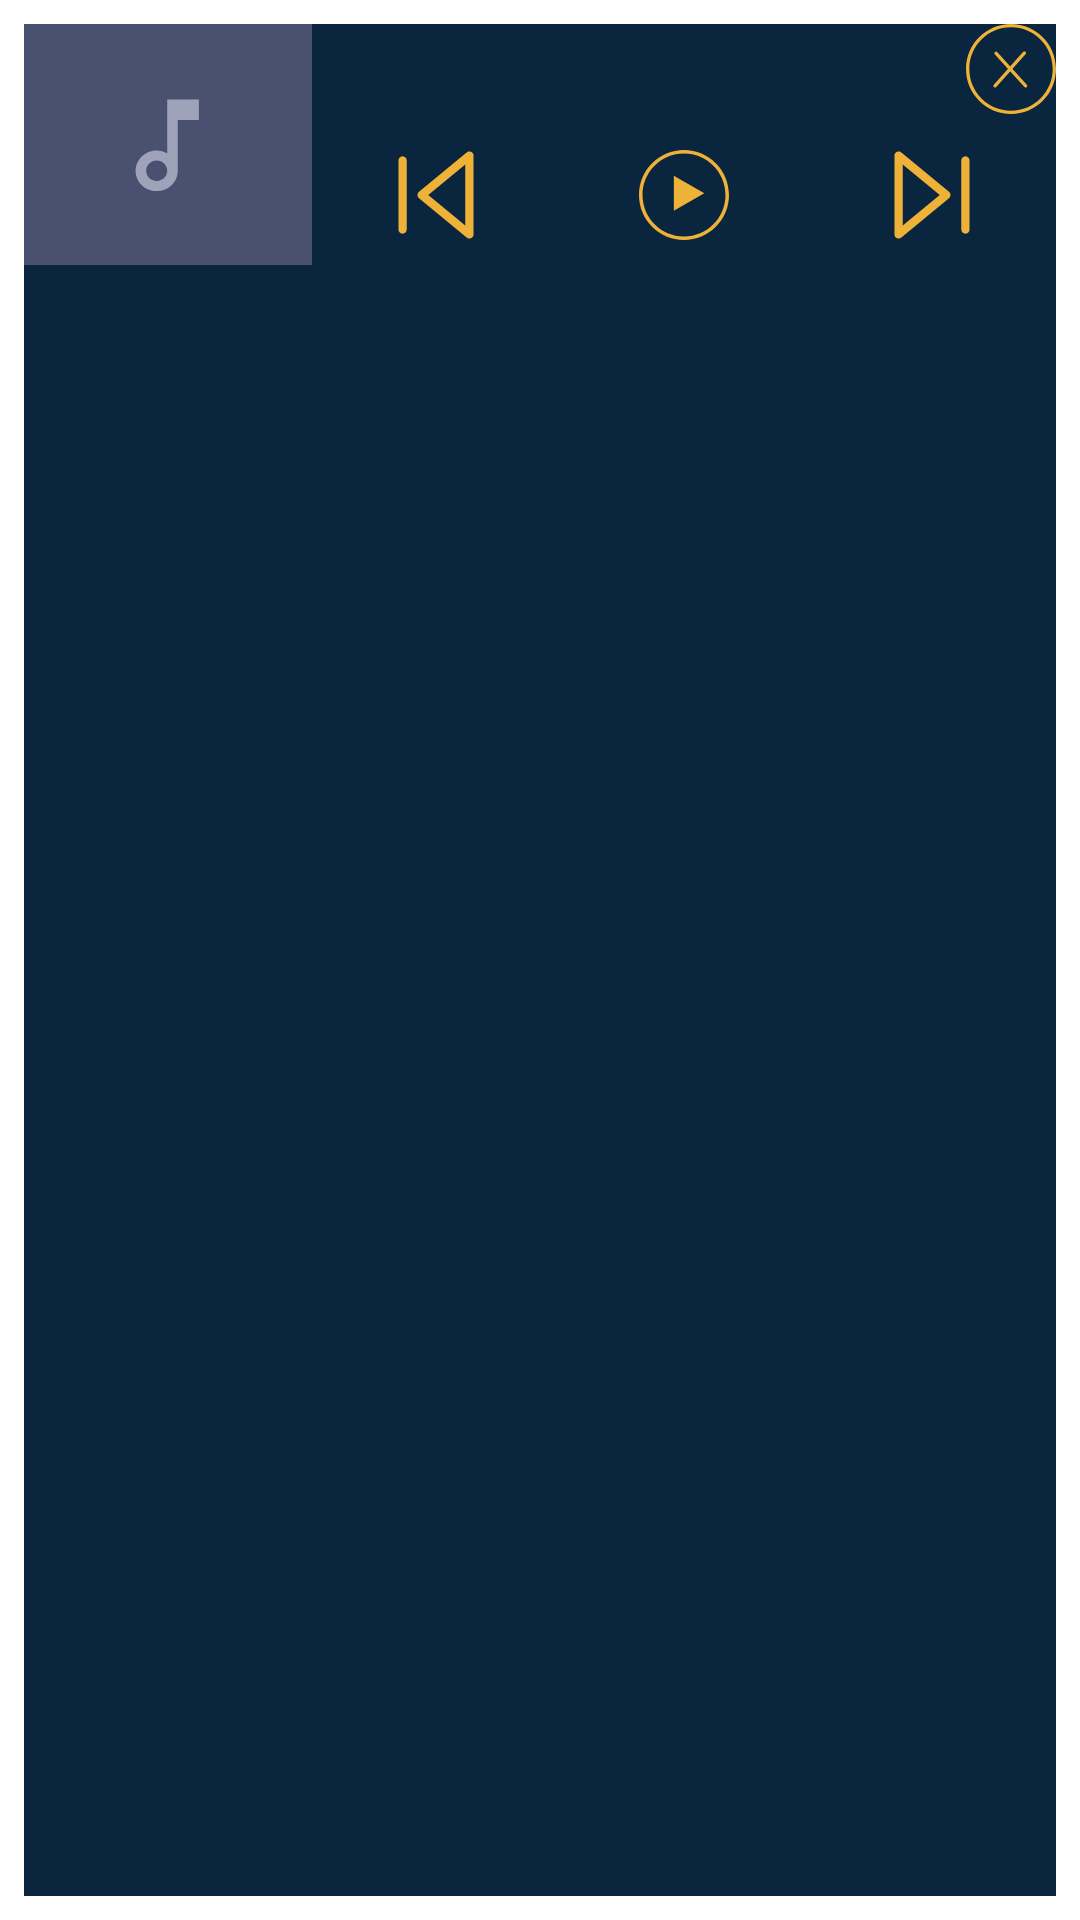

Point at icon controls on the screen. Image size 1080 x 1920, points as [x,y].
close: [1011,69]
next: [932,195]
play: [684,195]
pre: [436,195]
